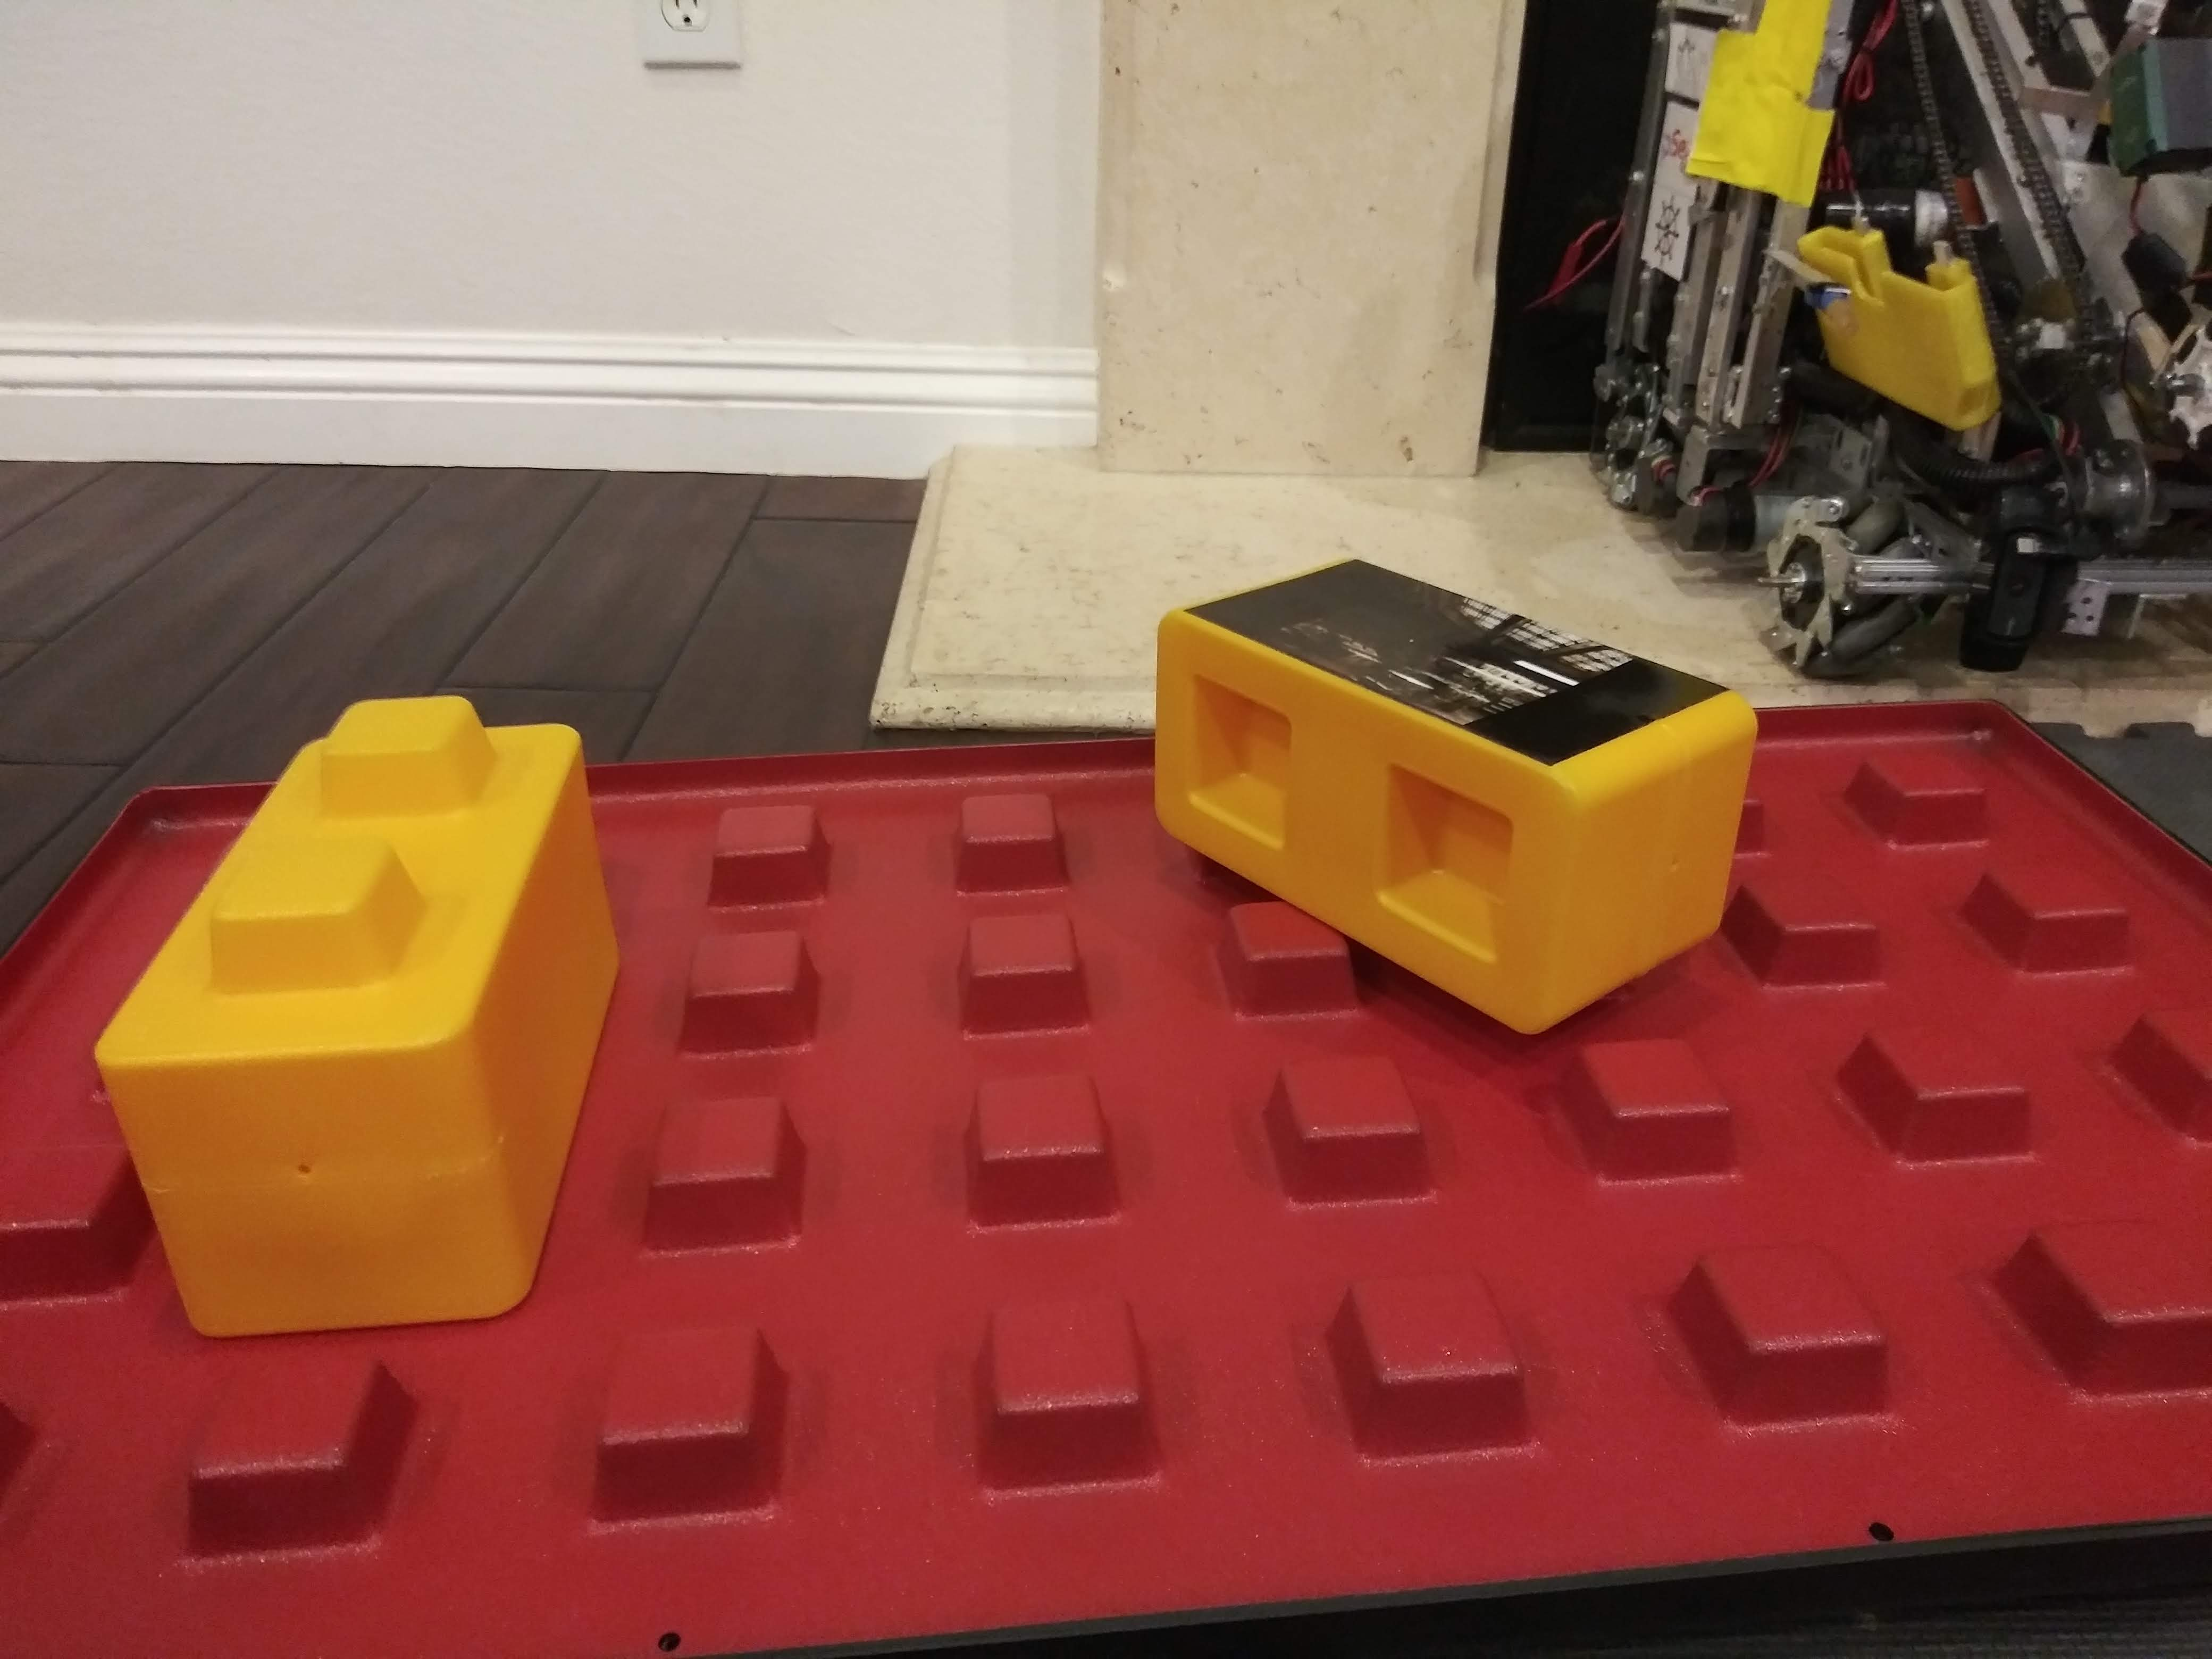skystone: (1139, 559, 1716, 983)
stone: (89, 706, 615, 1309)
